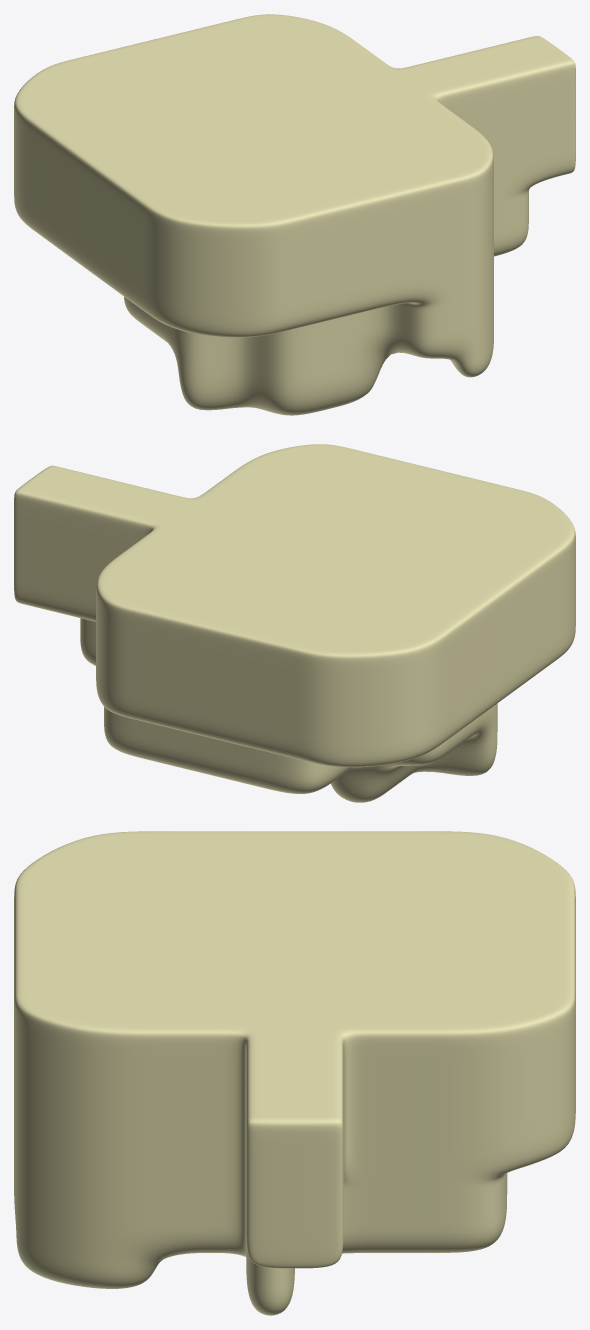
File: Sala1.fbx
3 views of the same model, one above another, from view 1: azimuth 30°, elevation 25°; view 2: azimuth 150°, elevation 25°; view 3: azimuth 270°, elevation 25° (orthographic). The views are drawn at different scales.
Parts seen in each view (by area): view 1: Base 1-1; view 2: Base 1-1; view 3: Base 1-1.
Boxes of the visible parts, bbox=[...] form: Base 1-1: bbox=[14, 14, 575, 415]; Base 1-1: bbox=[14, 444, 575, 802]; Base 1-1: bbox=[14, 831, 575, 1315].
Bounding box in the file's own units: 9522 × 11741 × 5630.
